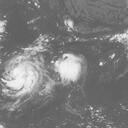cyclone: (2, 56, 44, 98), (55, 53, 82, 85)
